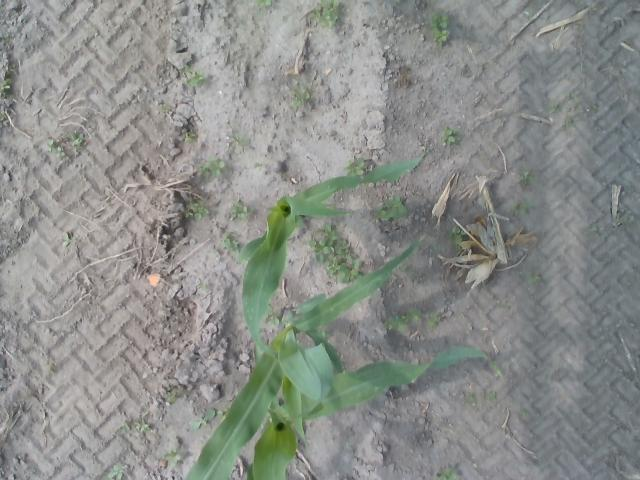Maize: (184, 232, 423, 478), (241, 152, 428, 364), (252, 345, 502, 480)
Weeds: (310, 225, 362, 282), (374, 198, 408, 222), (316, 0, 340, 26), (432, 11, 451, 43), (188, 409, 215, 430), (198, 158, 224, 176), (184, 66, 206, 85), (226, 202, 248, 220), (164, 446, 182, 467), (186, 200, 206, 218), (435, 466, 459, 480), (442, 128, 457, 146), (453, 226, 468, 243), (386, 314, 404, 328), (346, 160, 364, 174), (408, 308, 423, 324), (224, 239, 240, 254), (108, 466, 125, 480), (72, 132, 86, 146), (294, 86, 310, 98), (568, 90, 581, 104), (136, 420, 150, 432), (521, 172, 534, 184), (258, 0, 273, 10), (165, 390, 177, 402), (428, 314, 440, 326), (1, 77, 12, 90), (44, 138, 54, 152), (528, 270, 539, 282), (290, 99, 302, 110), (184, 132, 196, 143), (512, 202, 522, 215), (467, 391, 478, 402), (62, 233, 70, 246), (488, 392, 498, 402), (56, 147, 64, 158), (122, 424, 130, 434), (552, 103, 560, 112), (164, 104, 171, 114), (522, 202, 532, 209), (592, 102, 598, 112)
